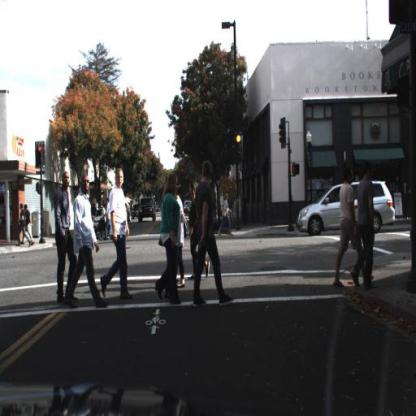car: (296, 180, 395, 238), (139, 198, 156, 222)
pedestrian: (99, 165, 133, 304), (352, 166, 377, 288), (334, 168, 359, 288), (162, 174, 184, 306), (187, 177, 213, 281), (198, 157, 216, 306), (335, 169, 358, 285), (76, 173, 94, 309), (112, 171, 128, 304), (59, 174, 71, 305), (189, 177, 201, 282), (219, 191, 236, 238), (18, 204, 31, 246), (26, 205, 35, 245)
trafficLight-Red: (35, 141, 46, 175), (236, 134, 246, 163)
